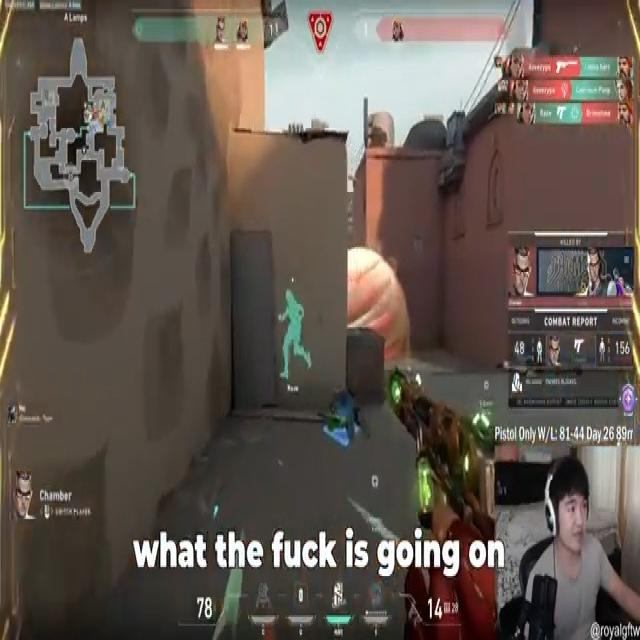ally behind wall: (280, 288, 312, 386)
smoke: (347, 247, 413, 371)
